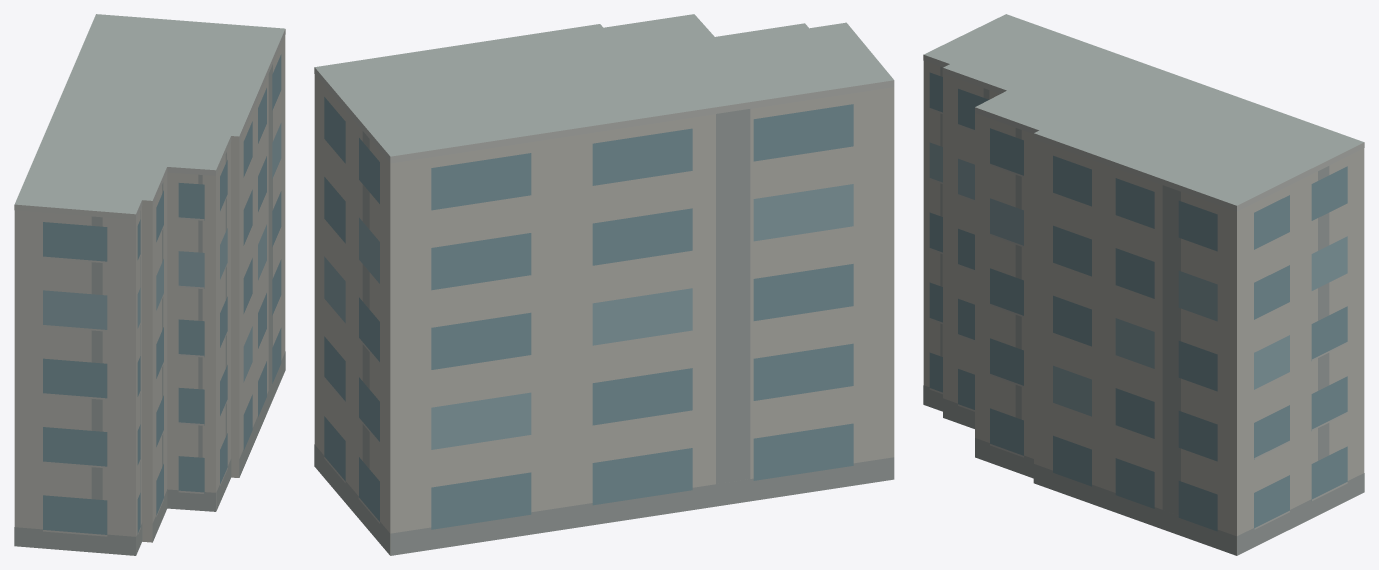
File: survey-upis-32593634.glb
3 renders of one model, left to right at view 1: azimuth 30°, elevation 25°; view 2: azimuth 150°, elevation 25°; view 3: azimuth 270°, elevation 25°, orthographic. The views are drawn at different scales.
Parts seen in each view (by area): view 1: survey-upis-32593634.tmp; view 2: survey-upis-32593634.tmp; view 3: survey-upis-32593634.tmp.
Boxes of the visible parts, box(x1,y1,x2,y2) form: survey-upis-32593634.tmp: box(14, 14, 285, 555); survey-upis-32593634.tmp: box(314, 14, 894, 555); survey-upis-32593634.tmp: box(923, 14, 1364, 555).
Size of the model in its own units: 17.04 by 14.5 by 16.56.
